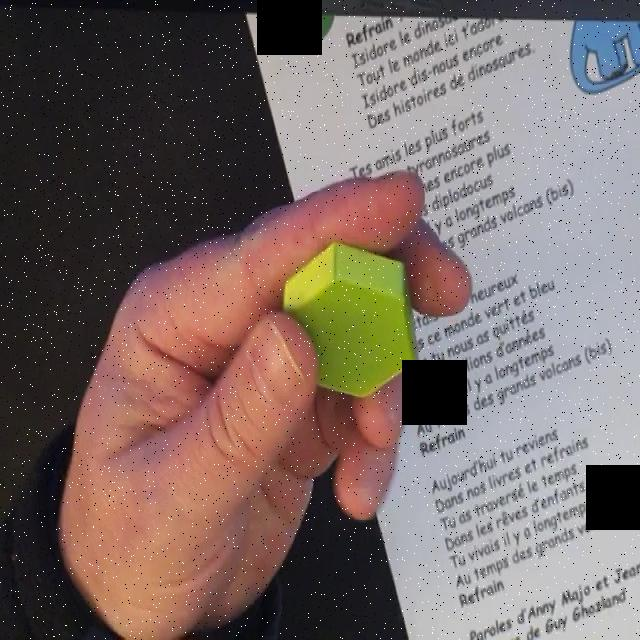hexagon: (280, 240, 419, 402)
